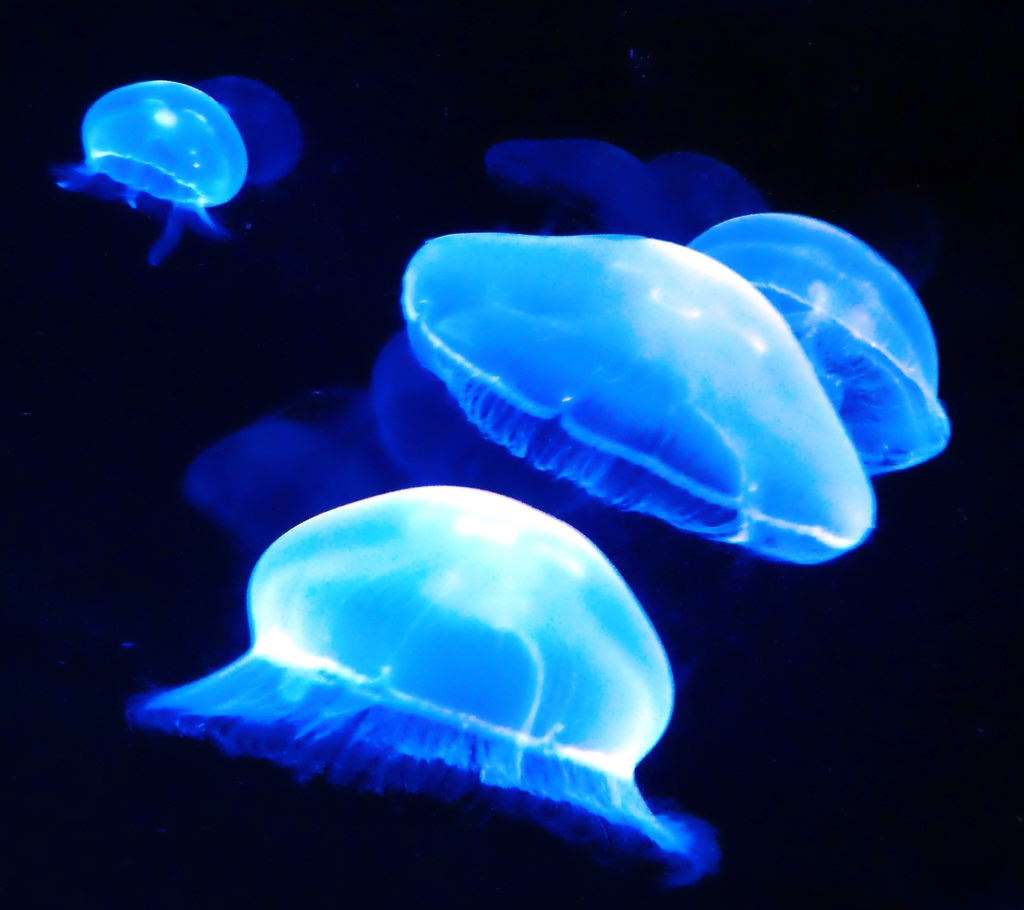Jellyfish: (131, 485, 705, 885), (684, 217, 956, 479), (60, 80, 246, 262)
